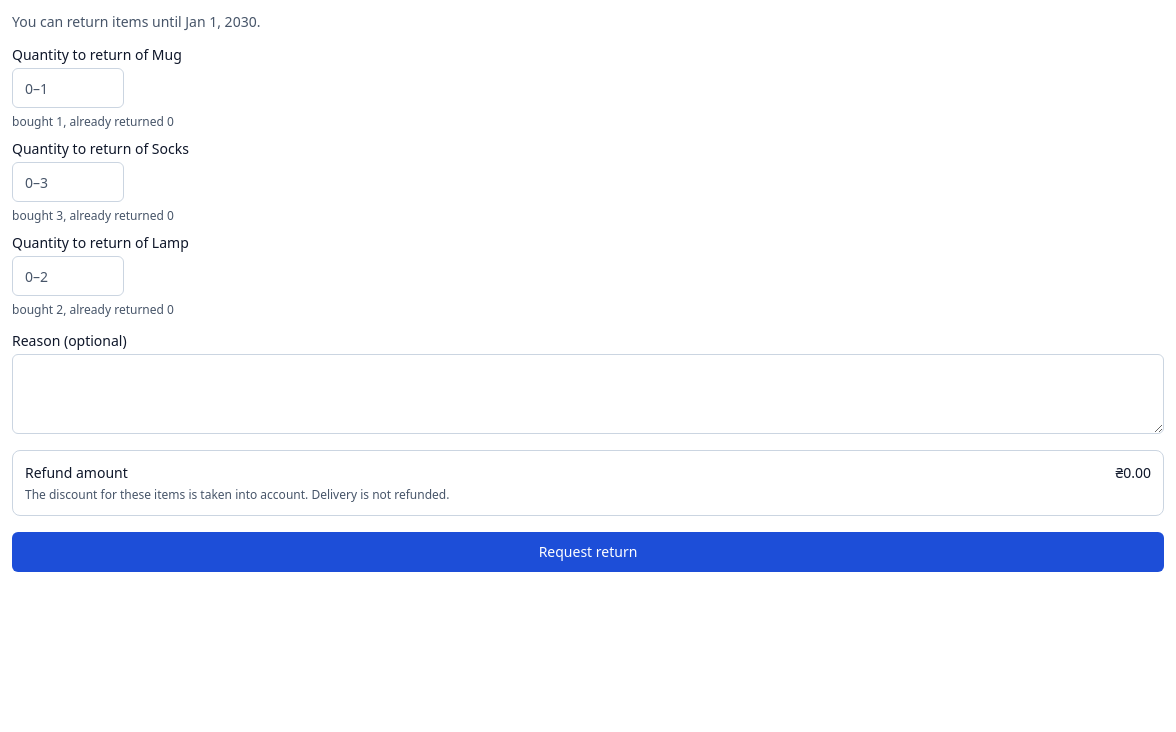
Test: <ReturnForm /> › shows the server's refusal (e.g. returned more than bought in another tab)
This screenshot has width=1176, height=732.
Type "1" into the field labelled "Quantity to return of Mug" at (68, 88), box [12, 68, 124, 108]
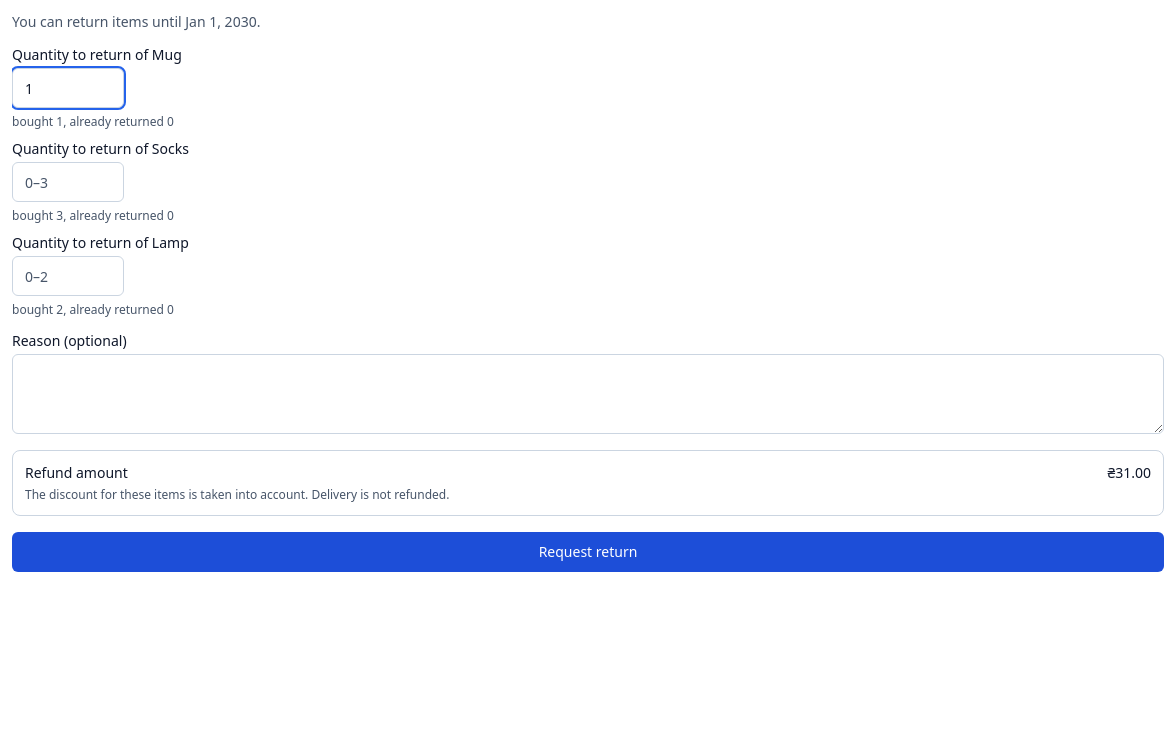
Click the button "Request return" at (588, 552), box [12, 532, 1164, 572]
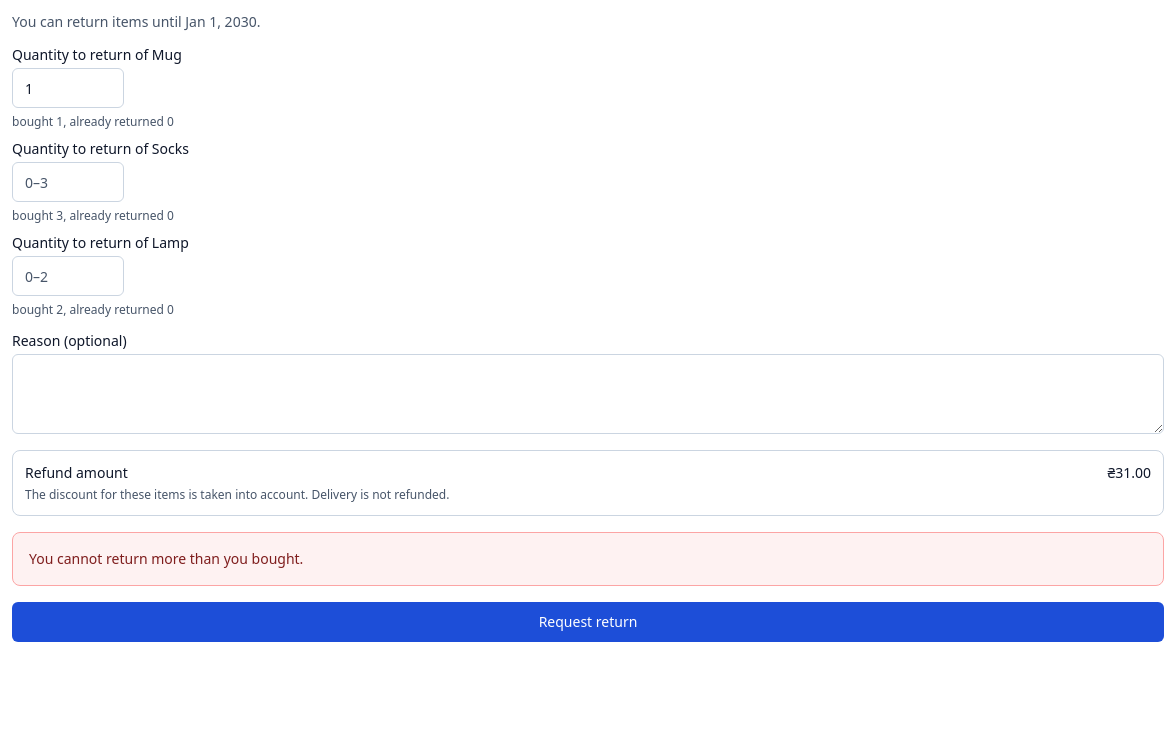
Check: the text "You cannot return more than you bought." is shown, box [12, 532, 1164, 586]
